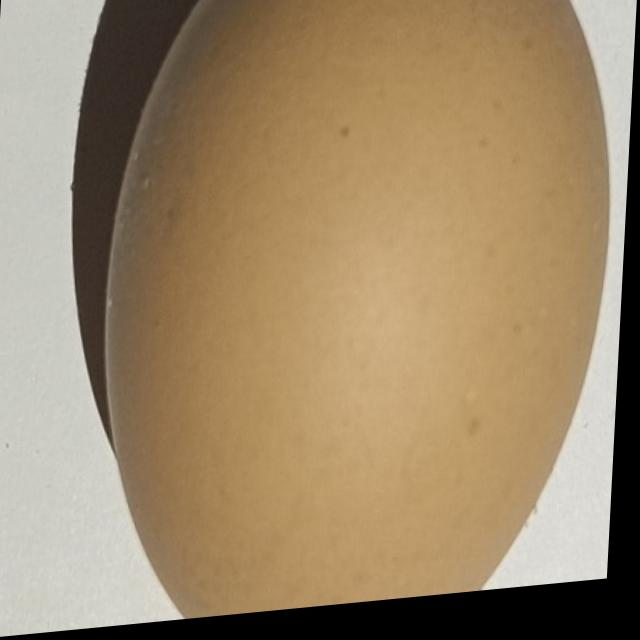fresh: (78, 0, 640, 632)
